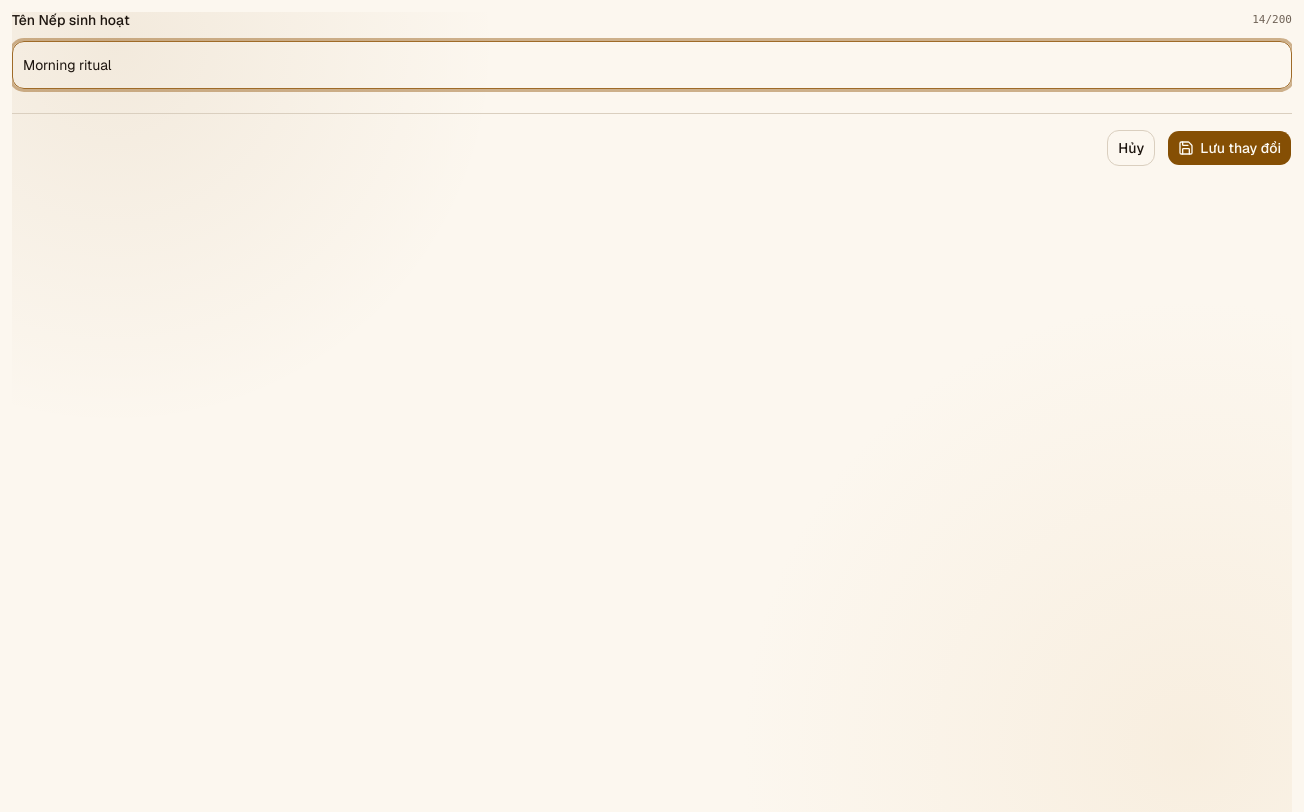
Test: RoutineEditor › offers to reload when the revision is stale
This screenshot has width=1304, height=812.
Step 1. Submit the form "Lưu thay đổi", box [12,12,1292,166]
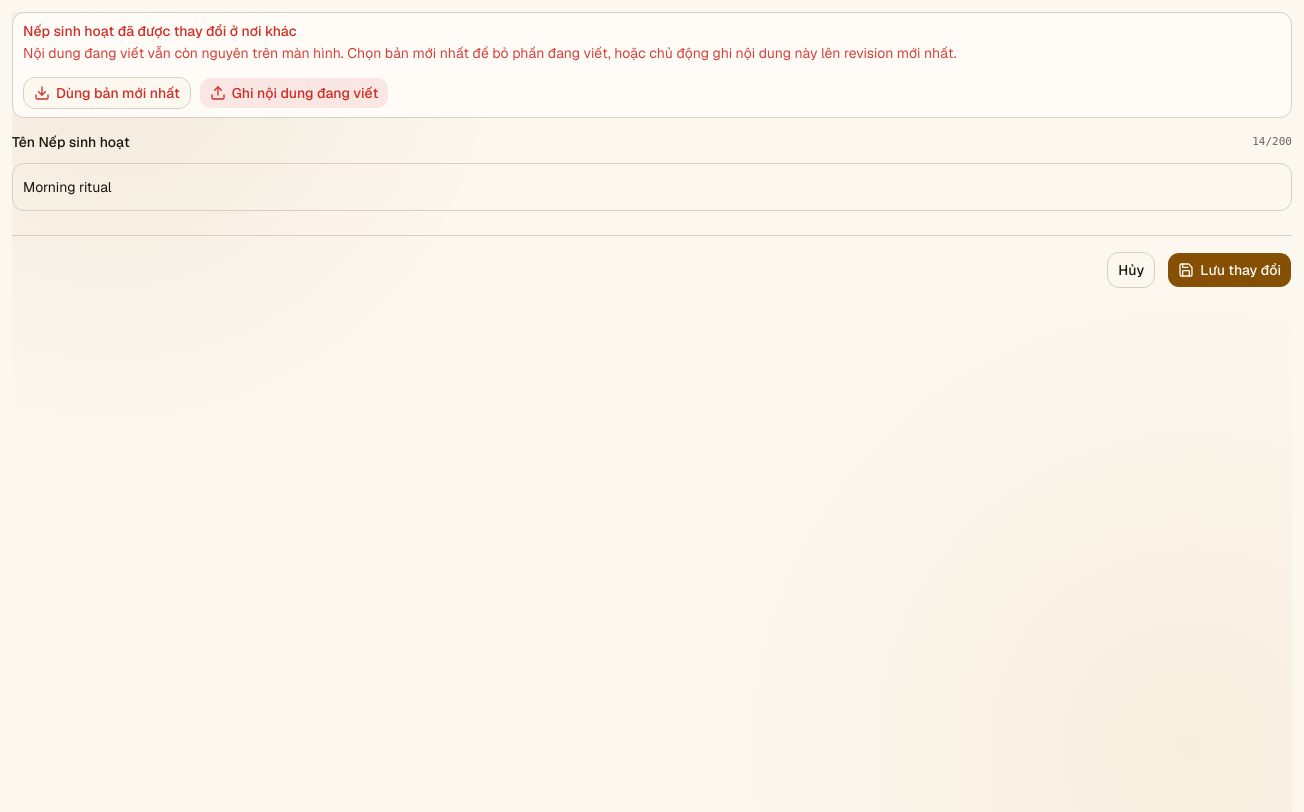
Expected: the heading "Nếp sinh hoạt đã được thay đổi ở nơi khác" is shown, [23,22,296,40]
Expected: the button "Dùng bản mới nhất" is enabled
Step 2. Click the button "Dùng bản mới nhất" → point(107, 93), box [23,77,191,109]
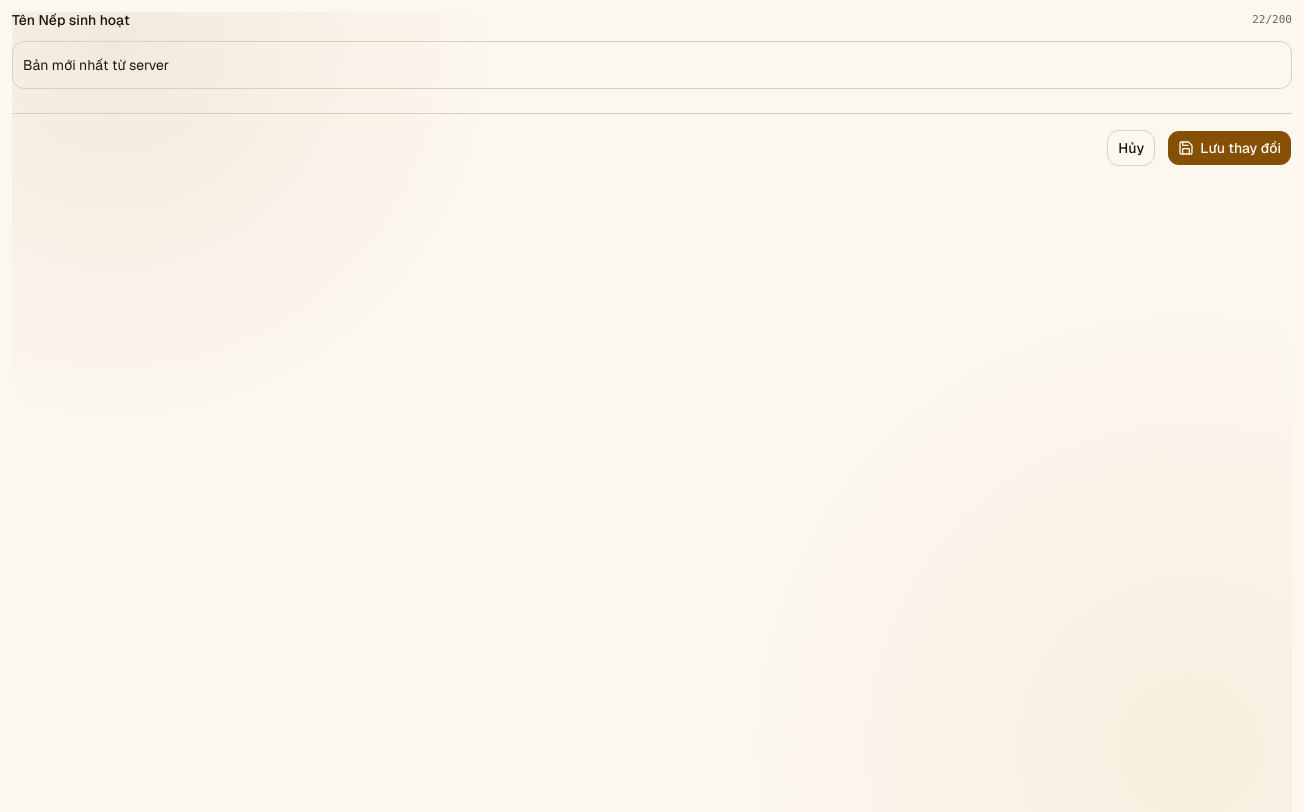
Expected: the field labelled "Tên Nếp sinh hoạt" holds "Bản mới nhất từ server", [12,40,1292,88]
